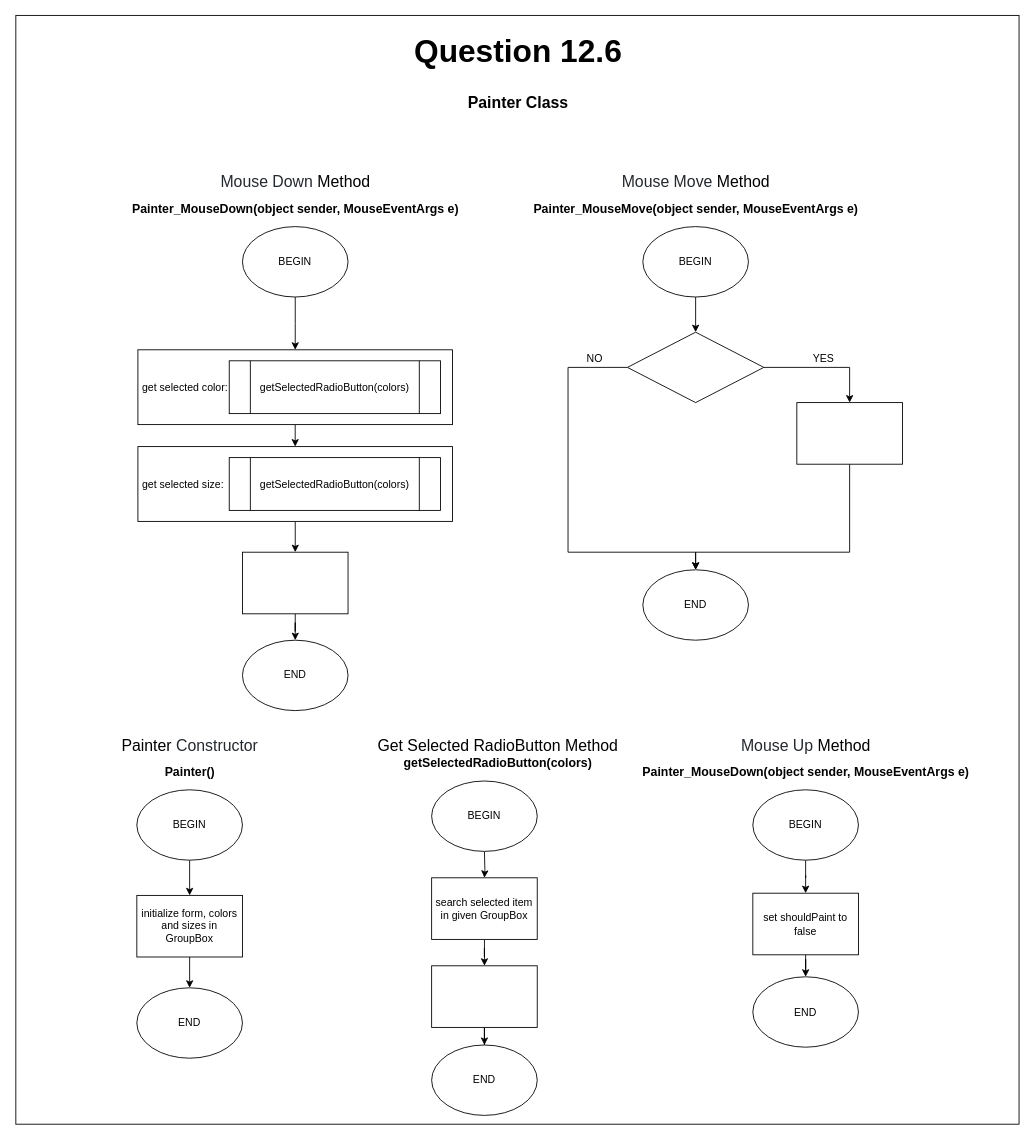
The diagram is 1034 pixels wide and 1140 high, and some of its shapes have lost their labels. Here are the shapes that lost their labels. From the top down, the centre of each, then its label:
At pixel 695 367: "shouldPaint = true".
At pixel 849 433: "create graohics object and call FillElipse method on the istance".
At pixel 295 582: "set shouldPaint to true".
At pixel 484 996: "return if there is a selected RadioButton".
